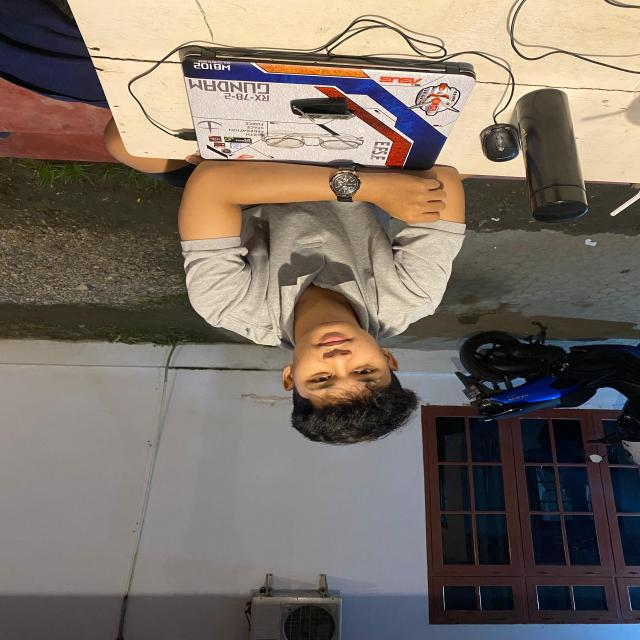nohelmet: (273, 319, 418, 448)
